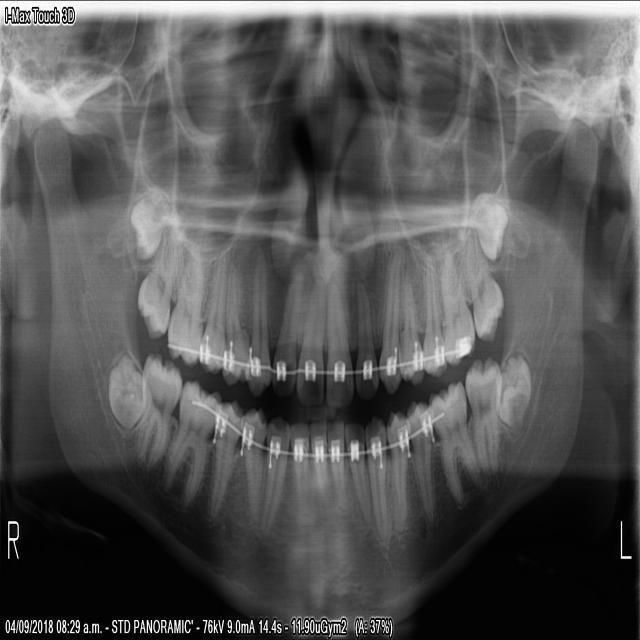LID: (323, 277, 327, 408)
